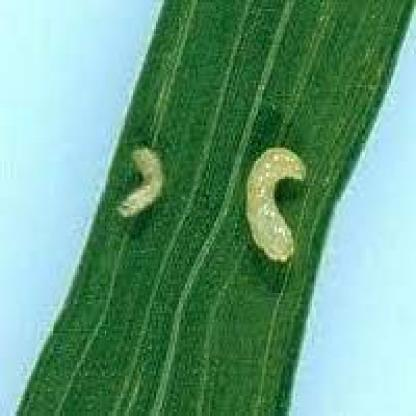whorl-maggot: (237, 134, 311, 272), (117, 128, 174, 233)
